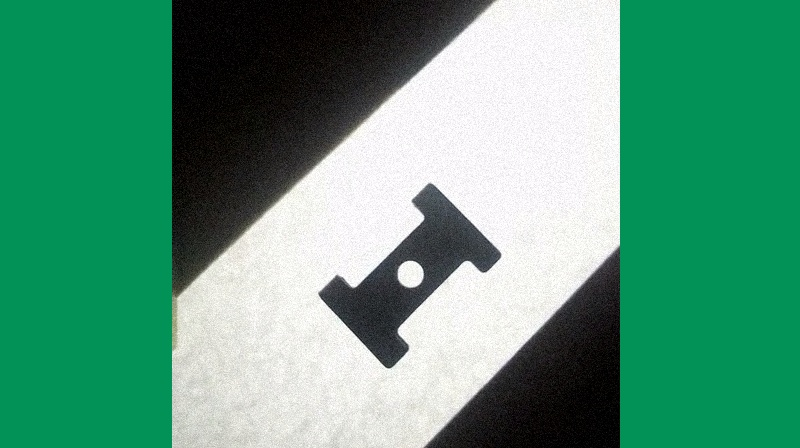O002: (315, 180, 504, 371)
